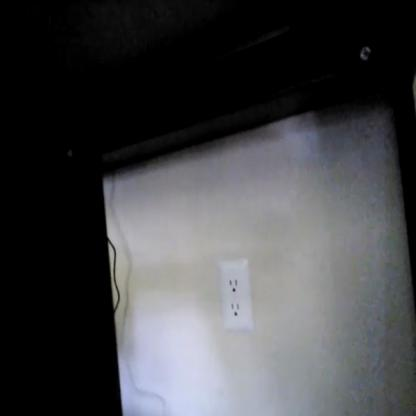OUTLET: (219, 257, 251, 329)
